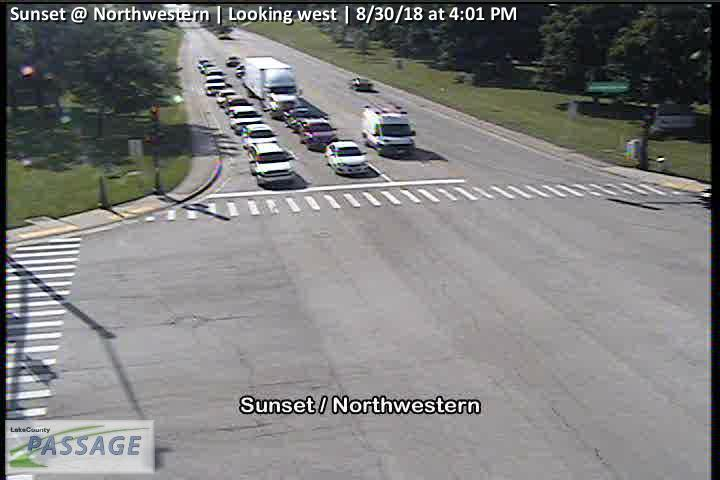SUV: (362, 97, 417, 160), (249, 141, 296, 187), (299, 117, 338, 152), (229, 106, 264, 135), (242, 124, 277, 152), (224, 94, 253, 114), (205, 75, 232, 96)
Sedan: (326, 141, 368, 176), (284, 108, 314, 130), (216, 88, 240, 108), (204, 63, 223, 75), (197, 57, 209, 72)
Truck: (242, 57, 302, 112)
